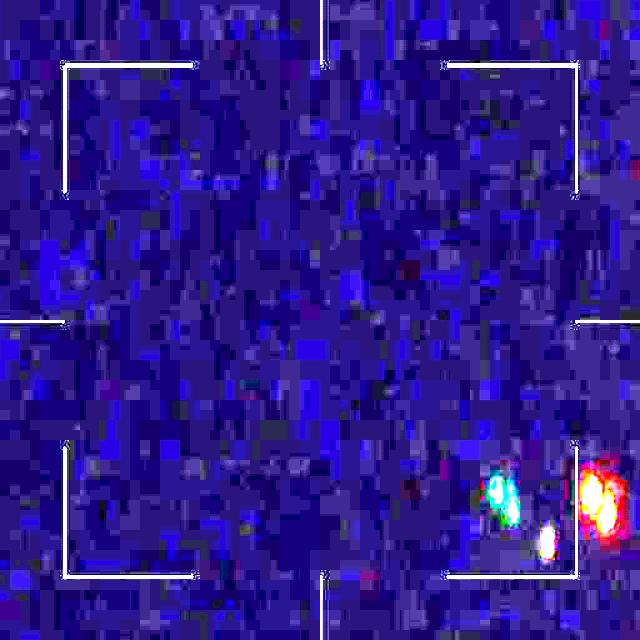bird: (490, 471, 619, 558)
